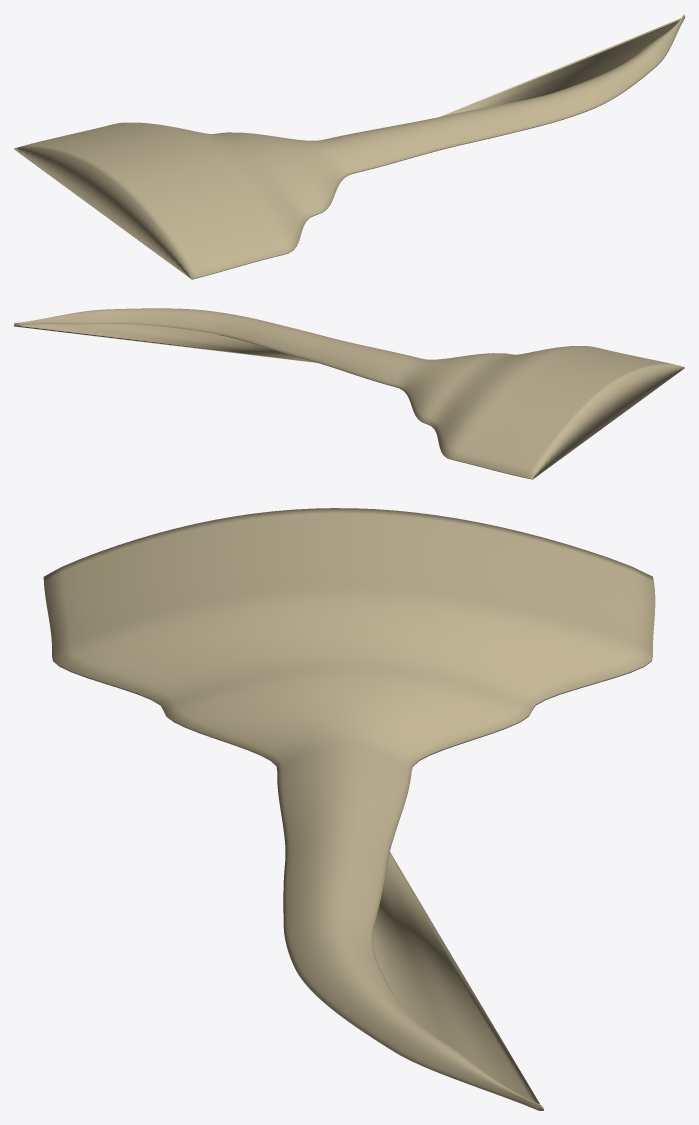
File: sand-spit.glb
3 views of the same model, one above another, from view 1: azimuth 30°, elevation 25°; view 2: azimuth 150°, elevation 25°; view 3: azimuth 270°, elevation 25° (orthographic). The views are drawn at different scales.
Parts seen in each view (by area): view 1: twelve-metre shore-connected root and free-ended curved sand; view 2: twelve-metre shore-connected root and free-ended curved sand; view 3: twelve-metre shore-connected root and free-ended curved sand.
Part boxes in pixels (left/top/right/bottom): twelve-metre shore-connected root and free-ended curved sand: left=14, top=14, right=684, bottom=279; twelve-metre shore-connected root and free-ended curved sand: left=14, top=308, right=684, bottom=479; twelve-metre shore-connected root and free-ended curved sand: left=43, top=508, right=655, bottom=1110.
Bounding box in the file's own units: 12 × 0.7355 × 5.82.
